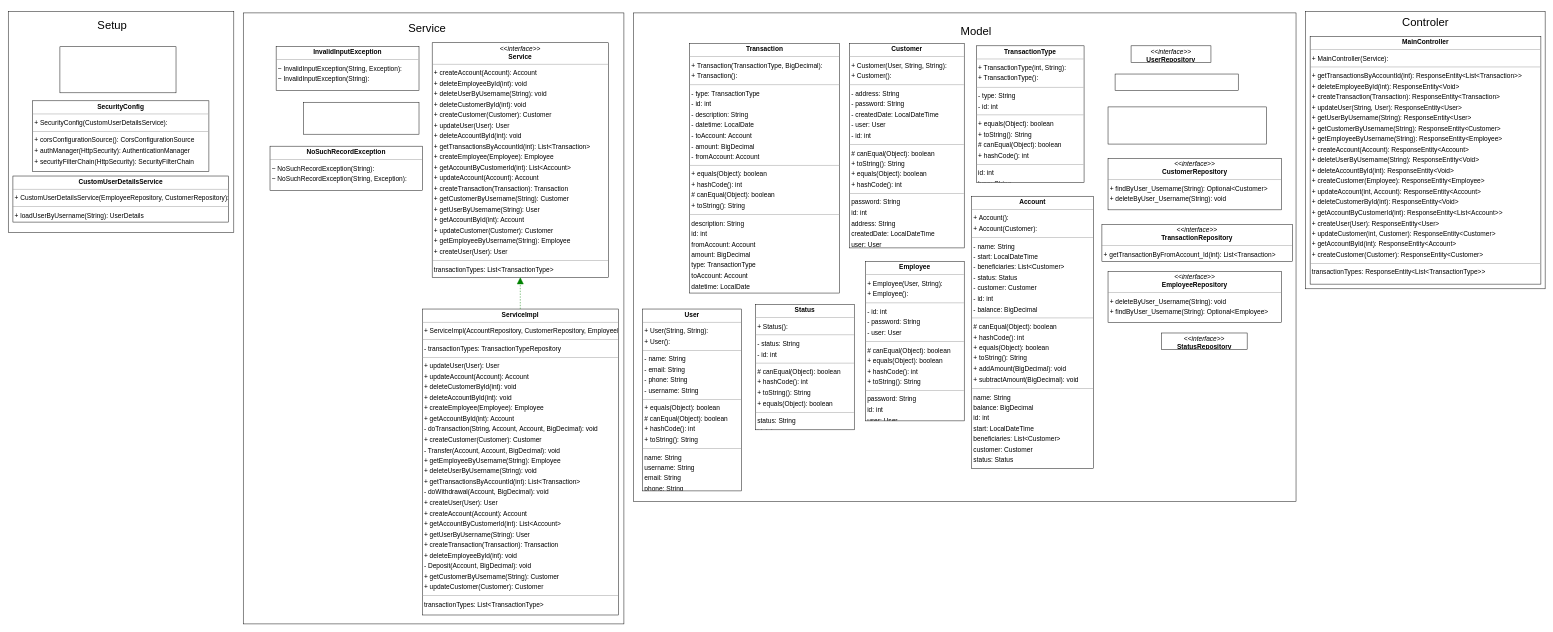
Some shapes in this 1553 by 632 pixel diagram are drawn without their labels. The centre of each missing label's shape, as x and y in pixels:
"<<interface>> AccountRepository + getAccountByCustomer_Id(int): List<Account>" belongs at (x=1187, y=125).
"<<interface>> TransactionTypeRepository" belongs at (x=1176, y=82).
"AlreadyExistsException ~ AlreadyExistsException(String):" belongs at (x=361, y=118).
"SpringBootApiApplication + SpringBootApiApplication(): + main(String[]): void" belongs at (x=117, y=69).
